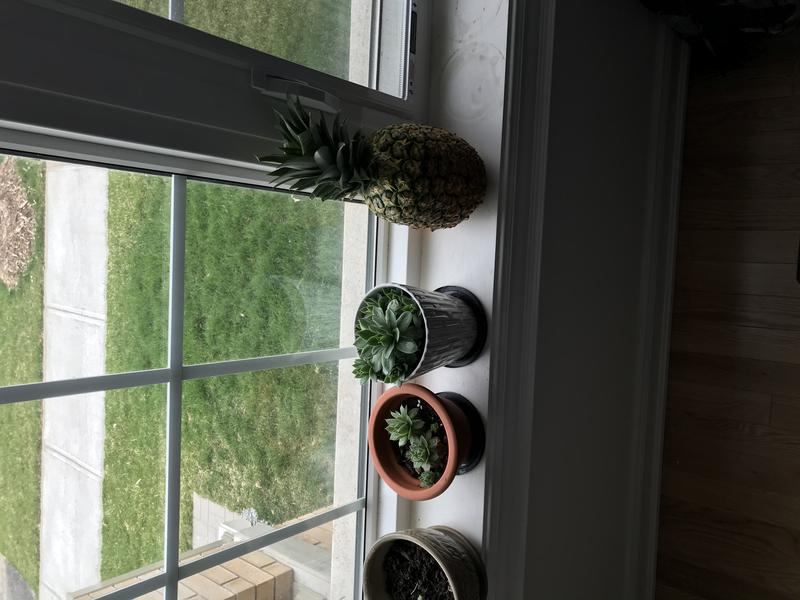pineapple: (253, 88, 493, 235)
